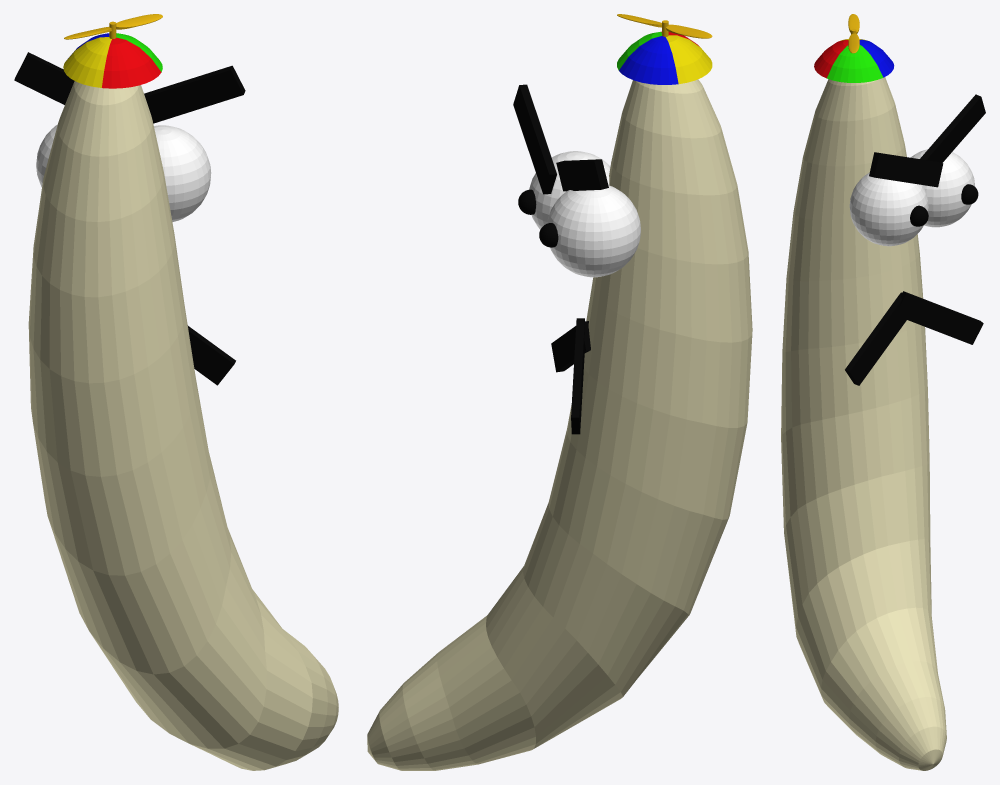
Rendered from banana_villian.glb.
3 renders of one model, left to right at view 1: azimuth 30°, elevation 25°; view 2: azimuth 150°, elevation 25°; view 3: azimuth 270°, elevation 25°, orthographic. The views are drawn at different scales.
Parts seen in each view (by area): view 1: Banana, Hat, Sphere, Cube, Cube.001, Cube.002, Propeller, Sphere.001; view 2: Banana, Sphere.001, Hat, Cube, Sphere, Cube.001, Cube.003, Cube.002, Propeller; view 3: Banana, Sphere, Hat, Sphere.001, Cube.003, Cube.002, Cube, Cube.001, Propeller.
Boxes of the visible parts, x1,y1,x2,y2 form: Banana: (28,81,338,770); Hat: (63,33,162,88); Sphere: (154,125,211,221); Cube: (144,65,245,123); Cube.001: (14,52,74,104); Cube.002: (187,325,235,385); Propeller: (64,14,162,39); Sphere.001: (36,124,57,187); Banana: (367,79,752,770); Sphere.001: (547,185,640,277); Hat: (617,31,712,84); Cube: (513,84,556,194); Sphere: (529,151,610,229); Cube.001: (556,159,608,191); Cube.003: (571,318,584,434); Cube.002: (551,321,590,372); Propeller: (617,14,712,38); Banana: (781,77,946,770); Sphere: (849,172,928,246); Hat: (814,39,894,82); Sphere.001: (911,149,975,227); Cube.003: (898,291,983,344); Cube.002: (845,292,906,385); Cube: (869,152,943,187); Cube.001: (920,94,985,162); Propeller: (848,14,859,53).
Bounding box in the file's own units: 0.8274 × 1.87 × 0.5381.
Materials: 8 (1 with a texture image).
